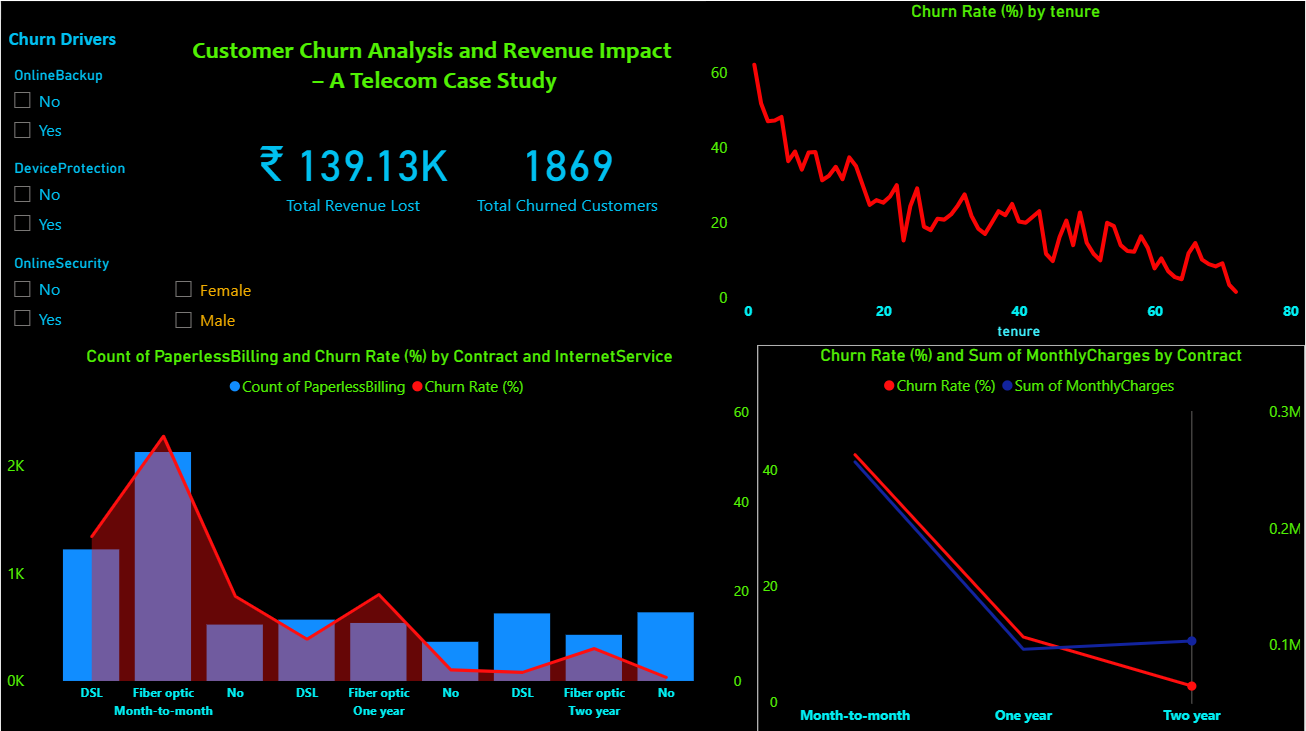

This screenshot's page, from the dashboard's own definition file:
{"tool":"powerbi","page":{"name":"Page 1","canvas":[1280,720],"ordinal":0},"visuals":[{"type":"lineChart","fields":{"Category":["WA_Fn-UseC_-Telco-Customer-Churn.Contract"],"Y":["WA_Fn-UseC_-Telco-Customer-Churn.Churn Rate (%)"],"Y2":["Sum(WA_Fn-UseC_-Telco-Customer-Churn.MonthlyCharges)"]},"box":[741.8,337.9,538.5,381.9],"z":0},{"type":"lineClusteredColumnComboChart","fields":{"Category":["WA_Fn-UseC_-Telco-Customer-Churn.Contract","WA_Fn-UseC_-Telco-Customer-Churn.InternetService"],"Y":["CountNonNull(WA_Fn-UseC_-Telco-Customer-Churn.PaperlessBilling)"],"Y2":["WA_Fn-UseC_-Telco-Customer-Churn.Churn Rate (%)"]},"box":[0,337.9,741.8,381.9],"z":1000},{"type":"lineChart","fields":{"Category":["WA_Fn-UseC_-Telco-Customer-Churn.Contract"],"Y":["Sum(WA_Fn-UseC_-Telco-Customer-Churn.SeniorCitizen)","CountNonNull(WA_Fn-UseC_-Telco-Customer-Churn.OnlineSecurity)"],"Y2":["WA_Fn-UseC_-Telco-Customer-Churn.Churn Rate (%)"]},"box":[691.6,0,588.7,337.6],"z":2000},{"type":"card","fields":{"Values":["WA_Fn-UseC_-Telco-Customer-Churn.Total Churned Customers"]},"box":[411.7,188,209.9,94.7],"z":3000},{"type":"card","fields":{"Values":["WA_Fn-UseC_-Telco-Customer-Churn.Total Revenue Lost"]},"box":[188,186.6,211.3,94.7],"z":4000},{"type":"slicer","fields":{"Values":["WA_Fn-UseC_-Telco-Customer-Churn.OnlineBackup"]},"box":[0,58.6,175.6,91.9],"z":5000},{"type":"slicer","fields":{"Values":["WA_Fn-UseC_-Telco-Customer-Churn.DeviceProtection"]},"box":[0,150.6,175.6,93.3],"z":6000},{"type":"textbox","box":[175.8,50.8,494.5,100.3],"z":7000},{"type":"slicer","fields":{"Values":["WA_Fn-UseC_-Telco-Customer-Churn.OnlineSecurity"]},"box":[0,243.9,175.6,93.3],"z":8000},{"type":"textbox","box":[0,17.8,175.6,41.2],"z":9000}]}

Visuals, with their boxes in screenshot pixels (x1, y1, x2, y2), scaled from the page's 1280x720 canvas onto the 1306x731 screenshot:
lineChart - WA_Fn-UseC_-Telco-Customer-Churn.Contract x WA_Fn-UseC_-Telco-Customer-Churn.Churn Rate (%): [757, 343, 1305, 730]
lineClusteredColumnComboChart - WA_Fn-UseC_-Telco-Customer-Churn.Contract x WA_Fn-UseC_-Telco-Customer-Churn.InternetService: [0, 343, 757, 730]
lineChart - WA_Fn-UseC_-Telco-Customer-Churn.Contract x Sum(WA_Fn-UseC_-Telco-Customer-Churn.SeniorCitizen): [706, 0, 1305, 343]
card - WA_Fn-UseC_-Telco-Customer-Churn.Total Churned Customers: [420, 191, 634, 287]
card - WA_Fn-UseC_-Telco-Customer-Churn.Total Revenue Lost: [192, 189, 407, 286]
slicer - WA_Fn-UseC_-Telco-Customer-Churn.OnlineBackup: [0, 59, 179, 153]
slicer - WA_Fn-UseC_-Telco-Customer-Churn.DeviceProtection: [0, 153, 179, 248]
textbox: [179, 52, 684, 153]
slicer - WA_Fn-UseC_-Telco-Customer-Churn.OnlineSecurity: [0, 248, 179, 342]
textbox: [0, 18, 179, 60]
